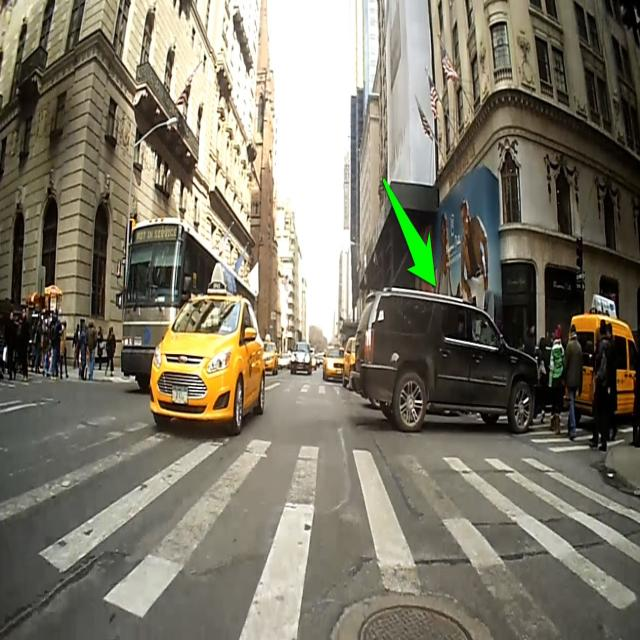body: (458, 196, 490, 310), (587, 322, 611, 452), (562, 323, 583, 440), (548, 322, 566, 432), (434, 212, 454, 300), (606, 322, 618, 442), (30, 306, 48, 377), (2, 310, 18, 382), (48, 307, 62, 378), (538, 336, 549, 424), (632, 332, 640, 448), (19, 306, 30, 382), (58, 320, 69, 380), (87, 320, 97, 381), (590, 326, 602, 374), (217, 302, 236, 332), (0, 295, 28, 314), (78, 323, 87, 381), (104, 326, 114, 376), (71, 322, 80, 370), (96, 324, 105, 370), (524, 318, 536, 352), (155, 270, 170, 296), (466, 320, 480, 344), (110, 326, 116, 356), (562, 324, 569, 347)
